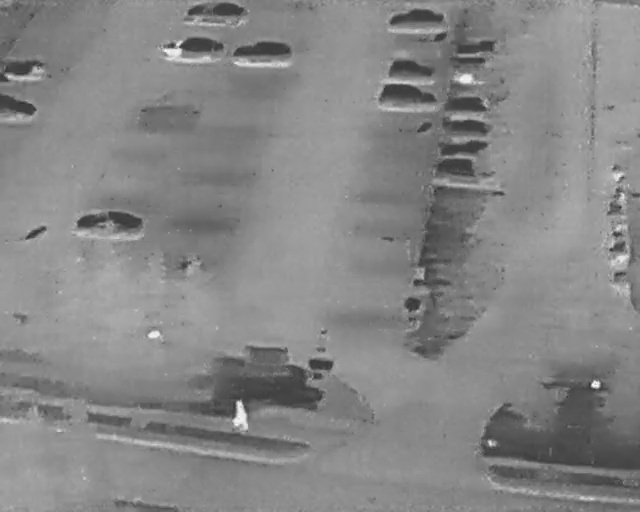Bicycle: (606, 198, 624, 217), (608, 163, 624, 182), (610, 223, 627, 239), (609, 241, 626, 256), (611, 185, 626, 200), (612, 269, 627, 280)
Car: (69, 210, 148, 244), (155, 32, 224, 63), (231, 37, 295, 69), (182, 0, 249, 29), (383, 7, 447, 36), (376, 81, 438, 110), (431, 156, 498, 182), (385, 55, 437, 84), (0, 57, 50, 84), (0, 94, 42, 123), (441, 117, 493, 137), (443, 94, 491, 115), (436, 138, 490, 155), (453, 39, 497, 54), (454, 54, 490, 70)
Person: (231, 399, 252, 431)
